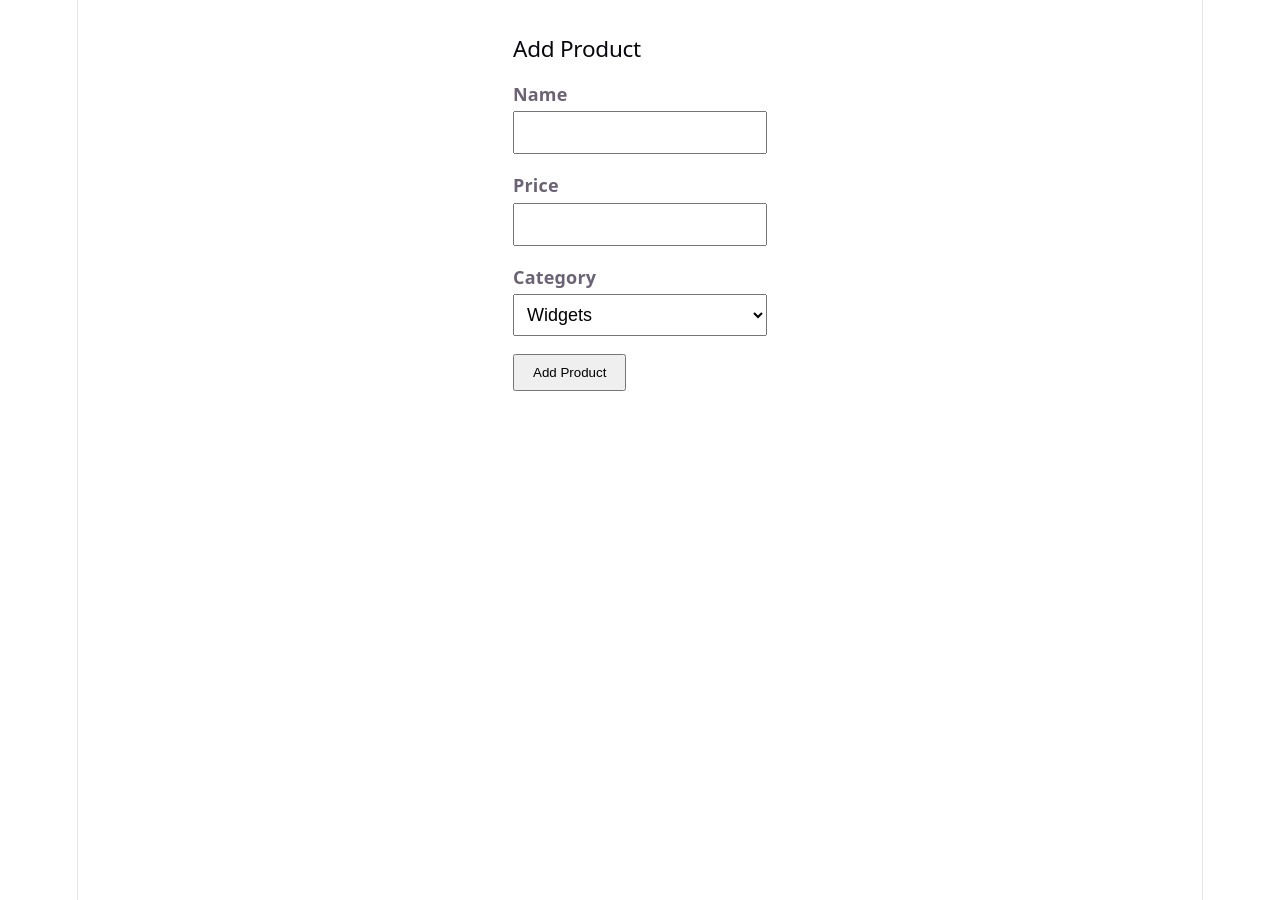
Scenario: ProductForm (create mode) › shows a visible form-level error on a 400 validation failure and preserves entered values
Expected: the dropdown labelled "Category" is enabled, left=513, top=294, right=767, bottom=336
Type "Bad Product" into the field labelled "Name" at [640, 133], box left=513, top=111, right=767, bottom=154
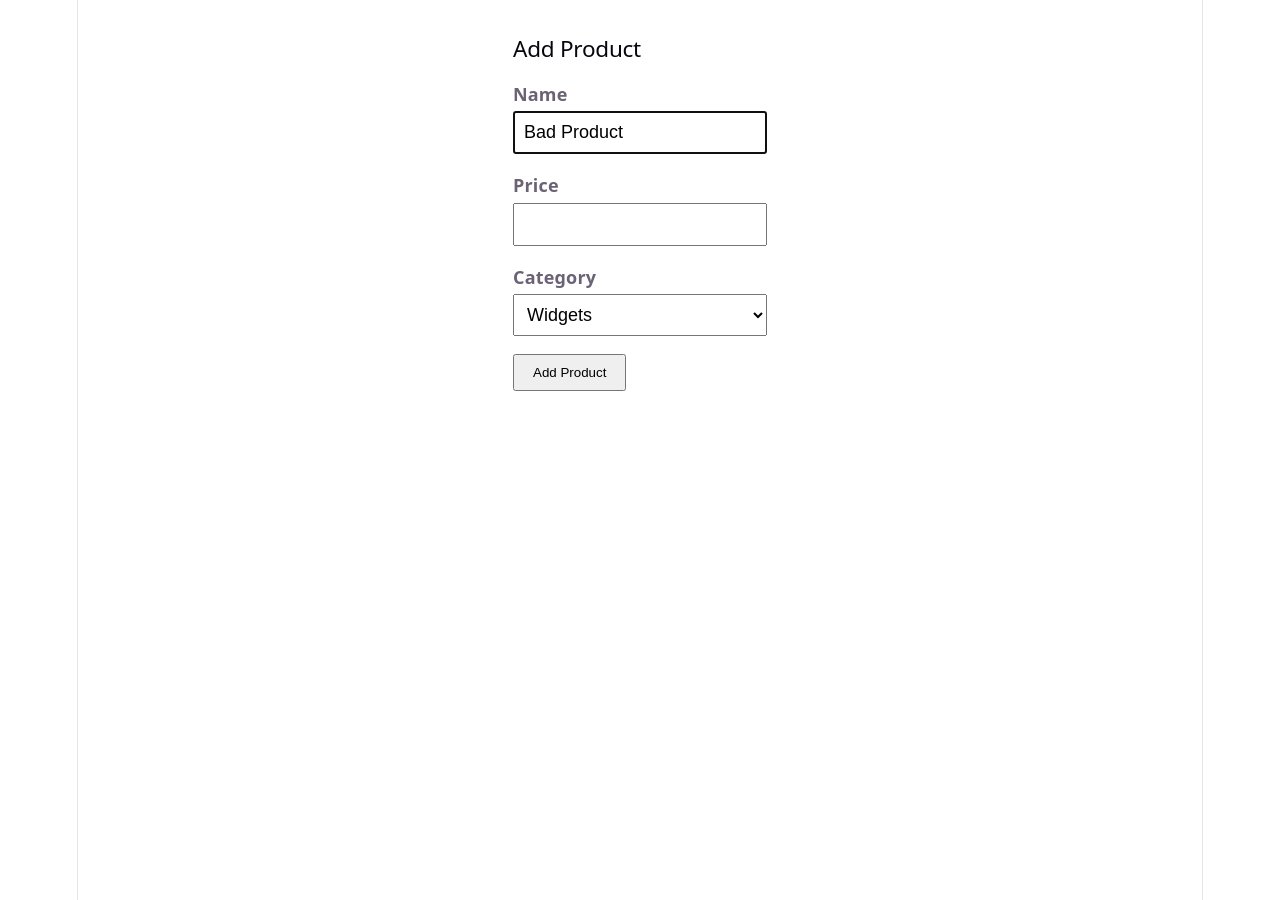
Type "9.99" into the number field labelled "Price" at [640, 224], box left=513, top=203, right=767, bottom=246
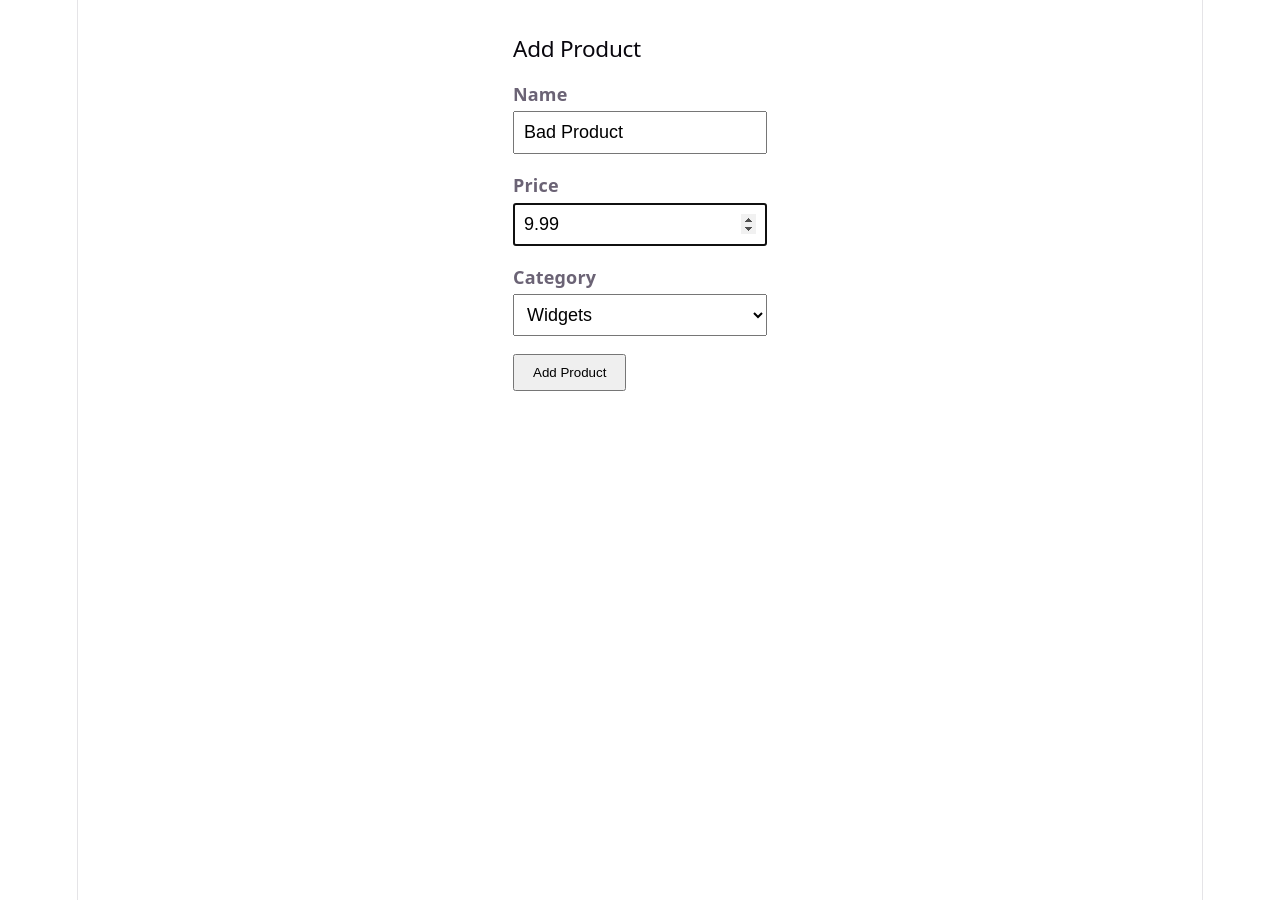
Click the button "Add Product" at [570, 373], box left=513, top=354, right=626, bottom=391
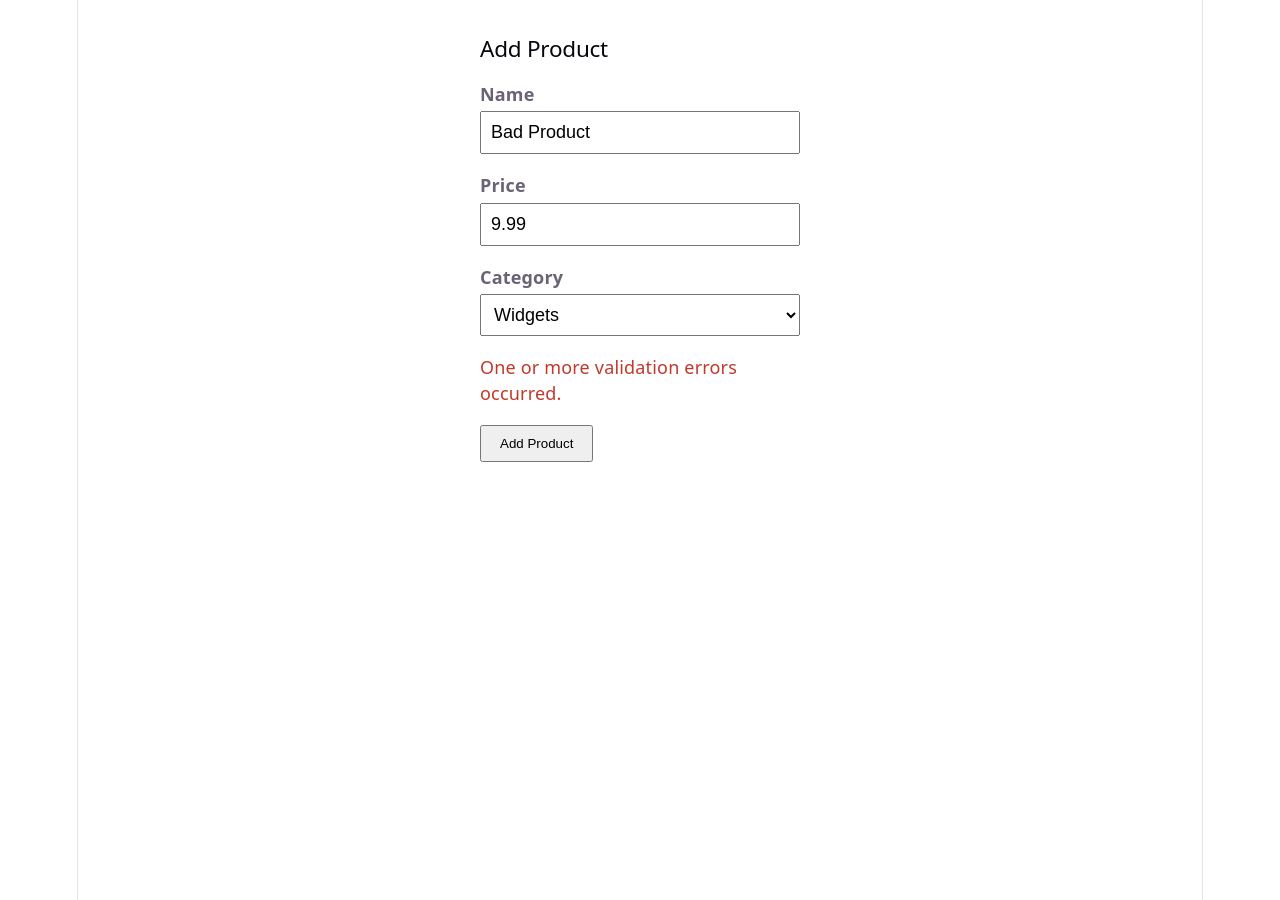
Expected: the button "Add Product" is enabled, left=480, top=424, right=593, bottom=462
Expected: the message reads "One or more validation errors occurred.", left=480, top=355, right=737, bottom=405
